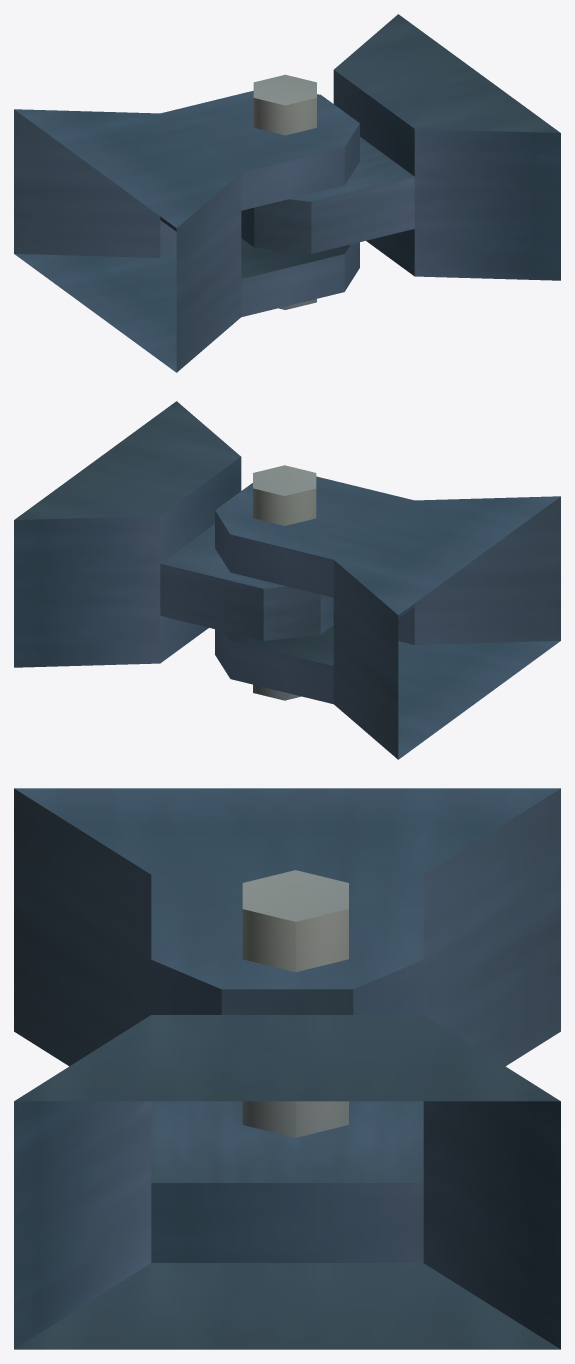
The model's file is Train_Attach_01.FBX.
3 renders of one model, top to bottom at view 1: azimuth 30°, elevation 25°; view 2: azimuth 150°, elevation 25°; view 3: azimuth 270°, elevation 25°, orthographic. The views are drawn at different scales.
Visible parts, largest first — view 1: Body_A, Body_B; view 2: Body_A, Body_B; view 3: Body_B, Body_A.
Part boxes in pixels (box(x1,y1,x2,y2)): Body_A: box(14, 74, 359, 372); Body_B: box(241, 14, 560, 280); Body_A: box(215, 465, 560, 759); Body_B: box(14, 401, 333, 667); Body_B: box(14, 1015, 560, 1349); Body_A: box(14, 788, 560, 1137).
Size of the model in its own units: 0.4241 by 0.2157 by 0.3109.
